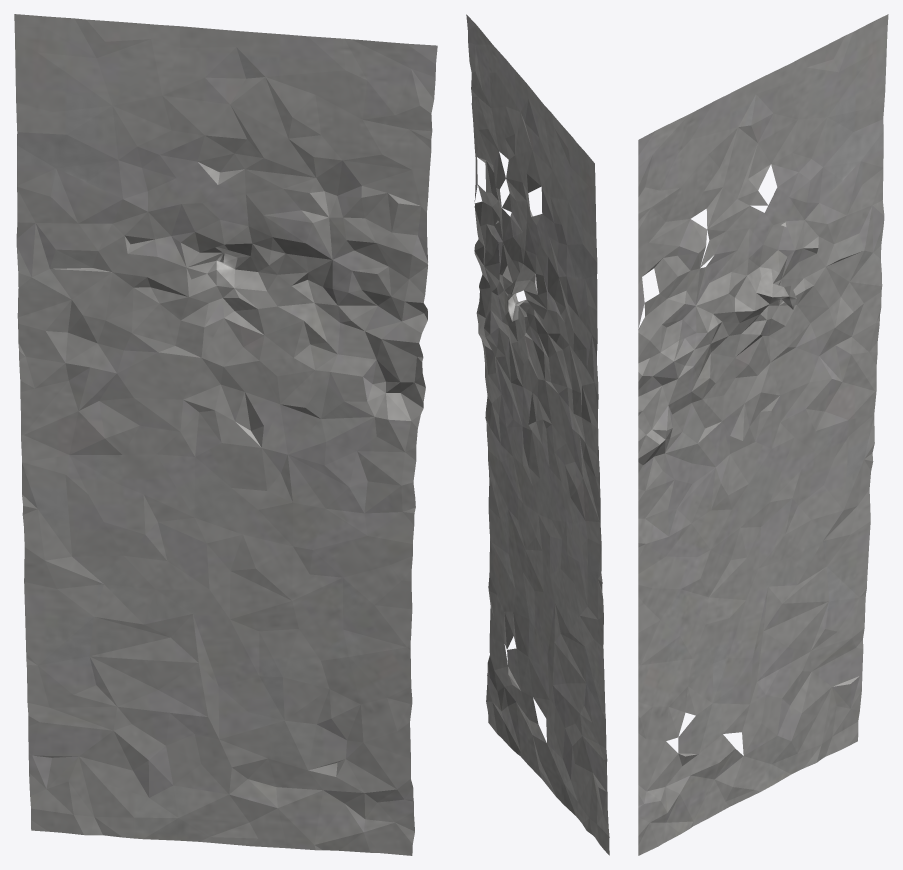
The picture shows the model from 3 angles, left to right: view 1: azimuth 30°, elevation 25°; view 2: azimuth 150°, elevation 25°; view 3: azimuth 270°, elevation 25°; orthographic projection. The views are drawn at different scales.
Bounding box in the file's own units: 0.3108 × 0.8374 × 0.2609.
Materials: 2 (2 with a texture image).
